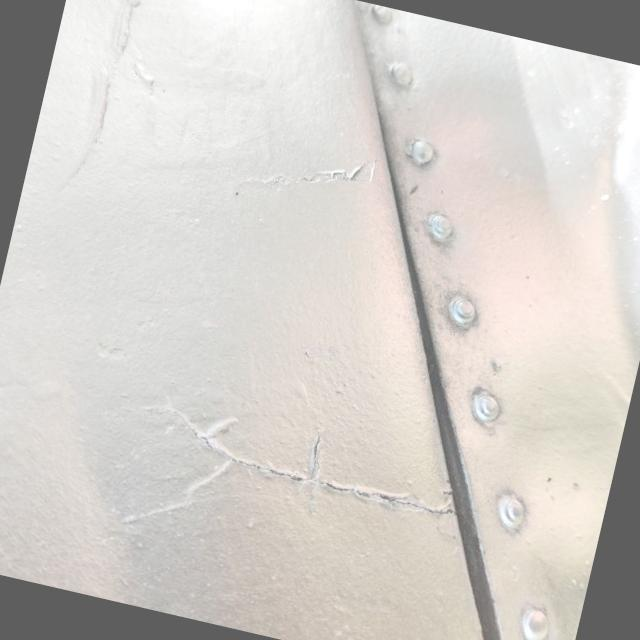crack: (38, 111, 270, 485)
